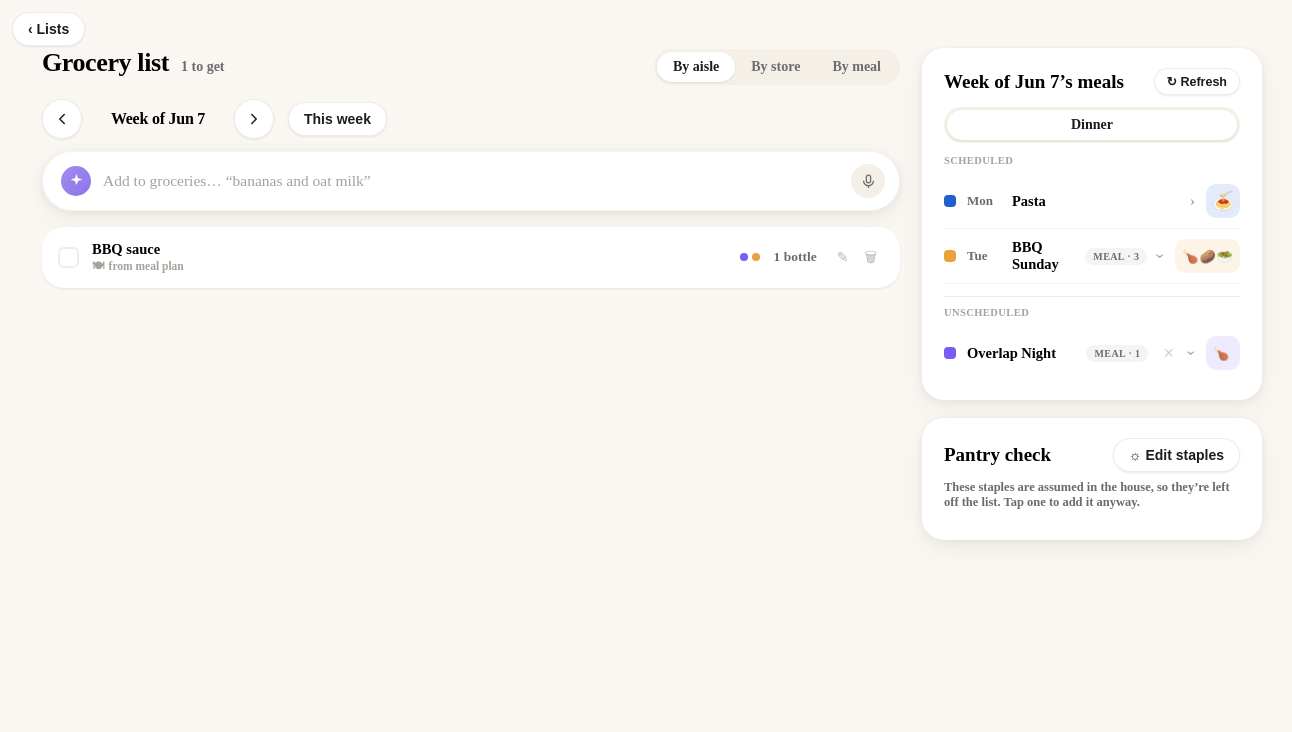
Test case: GroceryBoard By-meal grouping with plates › still shows a plate whose items were all claimed by an earlier meal, and says where they went
Expected: the text "BBQ sauce" is shown, top-left (92, 241), bottom-right (160, 257)
Click the button "By meal" at (857, 67), box top-left (816, 52), bottom-right (897, 82)
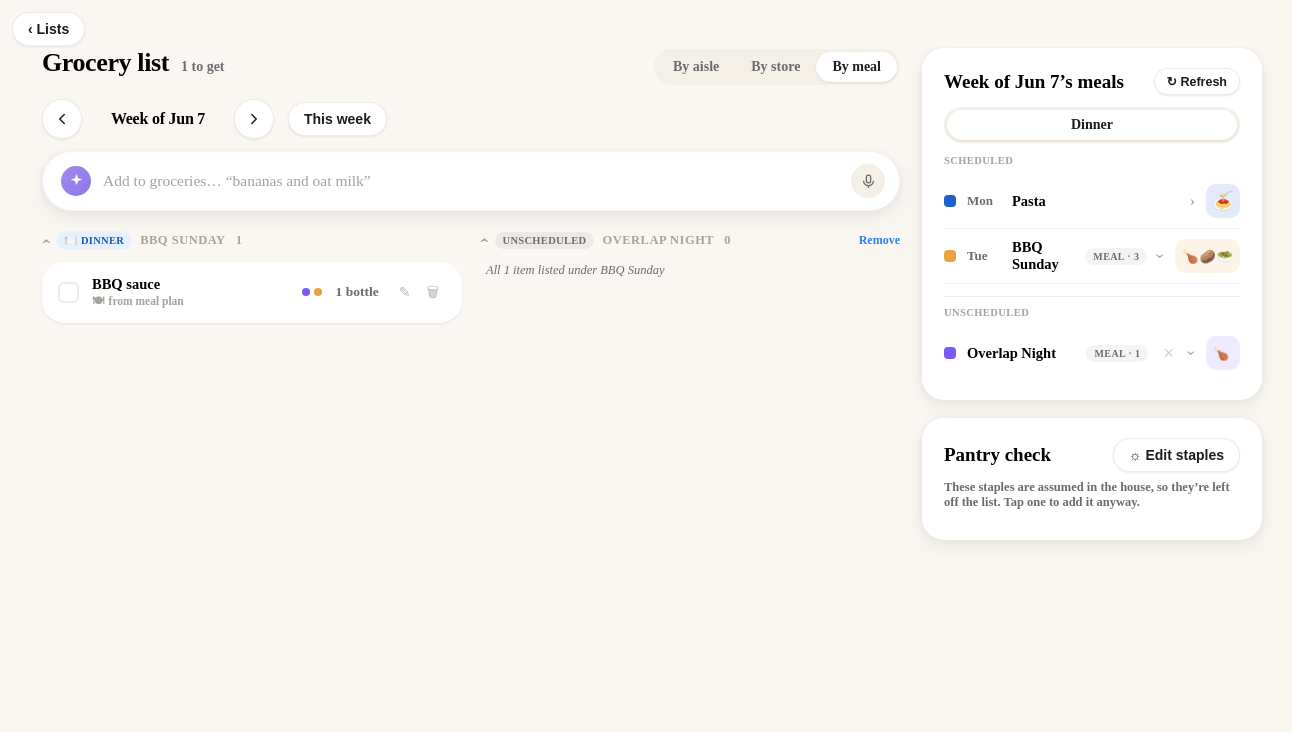
Now the text "Overlap Night" is shown, box top-left (602, 232), bottom-right (714, 246)
Now the text "Overlap Night" shows "listed under BBQ Sunday", box top-left (486, 263), bottom-right (664, 277)
